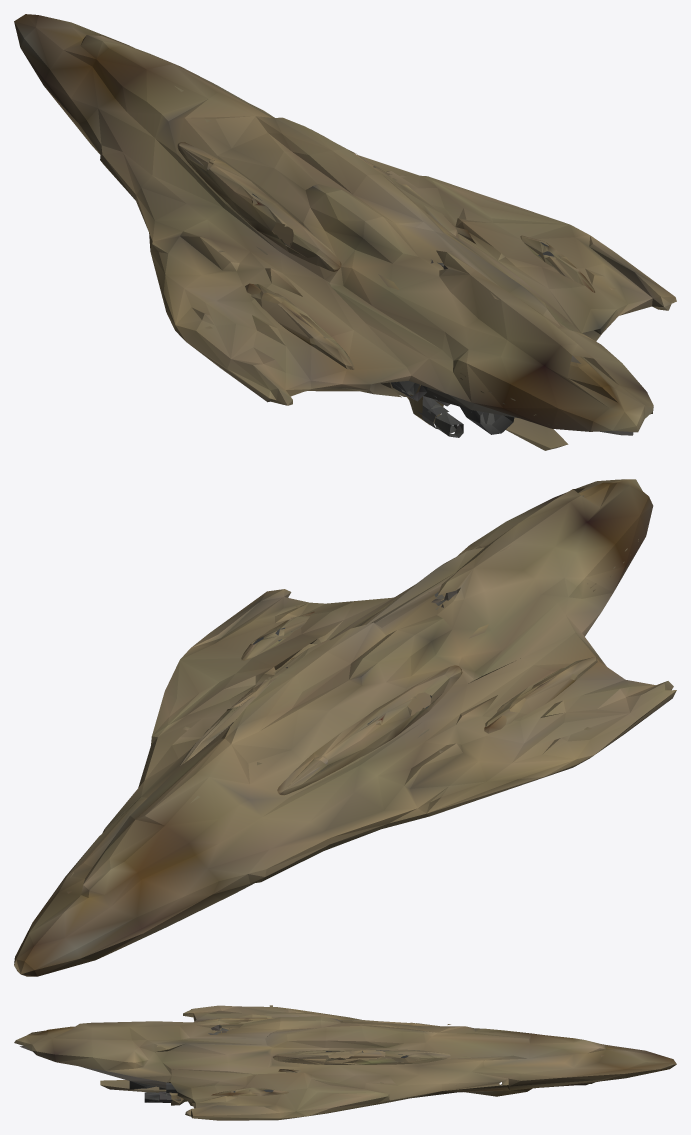
The model's file is moncal.glb.
3 renders of one model, top to bottom at view 1: azimuth 30°, elevation 25°; view 2: azimuth 150°, elevation 25°; view 3: azimuth 270°, elevation 25°, orthographic. The views are drawn at different scales.
Visible parts, largest first — view 1: moncal; view 2: moncal; view 3: moncal.
Boxes of the visible parts, x1,y1,x2,y2 form: moncal: [14, 14, 676, 450]; moncal: [14, 479, 676, 976]; moncal: [14, 1005, 676, 1120].
Size of the model in its own units: 447 by 145 by 1164.
